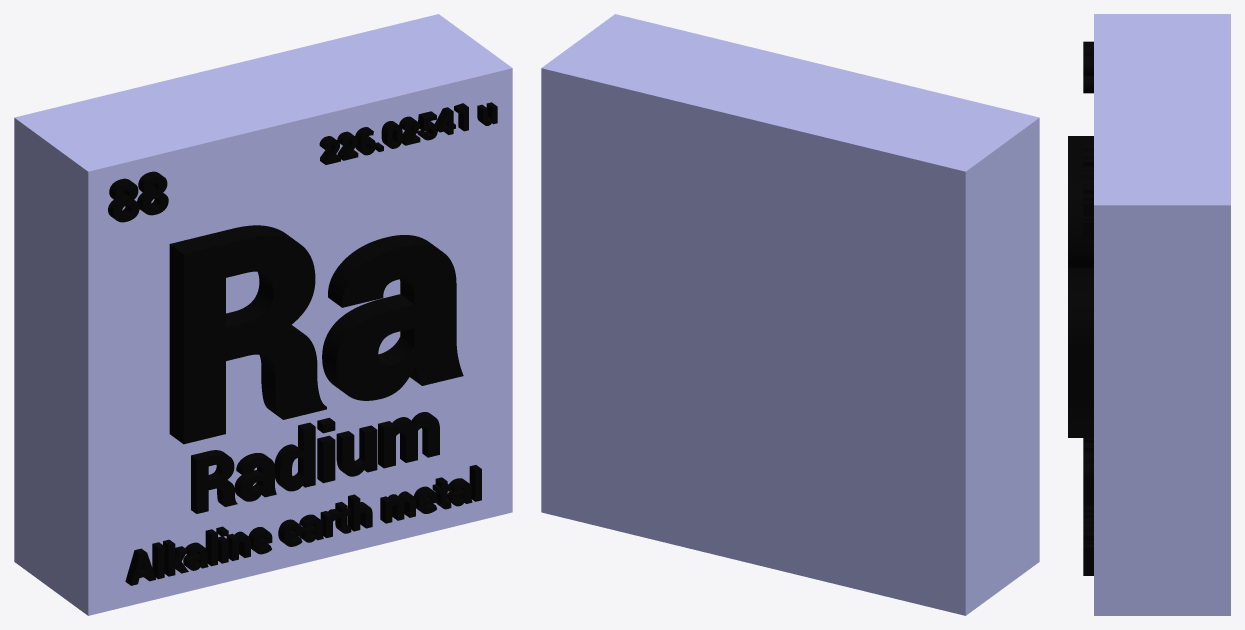
The picture shows the model from 3 angles, left to right: view 1: azimuth 30°, elevation 25°; view 2: azimuth 150°, elevation 25°; view 3: azimuth 270°, elevation 25°; orthographic projection. The views are drawn at different scales.
Parts seen in each view (by area): view 1: Cube, Text, Text.001, Text.002, Text.004, Text.003; view 2: Cube; view 3: Cube, Text, Text.004, Text.002, Text.001, Text.003.
Boxes of the visible parts, <box> form: Cube: <box>14,14,512,615</box>; Text: <box>169,225,463,444</box>; Text.001: <box>191,412,439,513</box>; Text.002: <box>125,465,481,585</box>; Text.004: <box>319,102,497,164</box>; Text.003: <box>108,171,168,222</box>; Cube: <box>541,14,1039,615</box>; Cube: <box>1094,14,1230,615</box>; Text: <box>1068,136,1093,437</box>; Text.004: <box>1083,142,1093,238</box>; Text.002: <box>1083,505,1093,575</box>; Text.001: <box>1083,438,1093,505</box>; Text.003: <box>1083,41,1093,93</box>.
Size of the model in its own units: 178 by 178 by 63.95.
